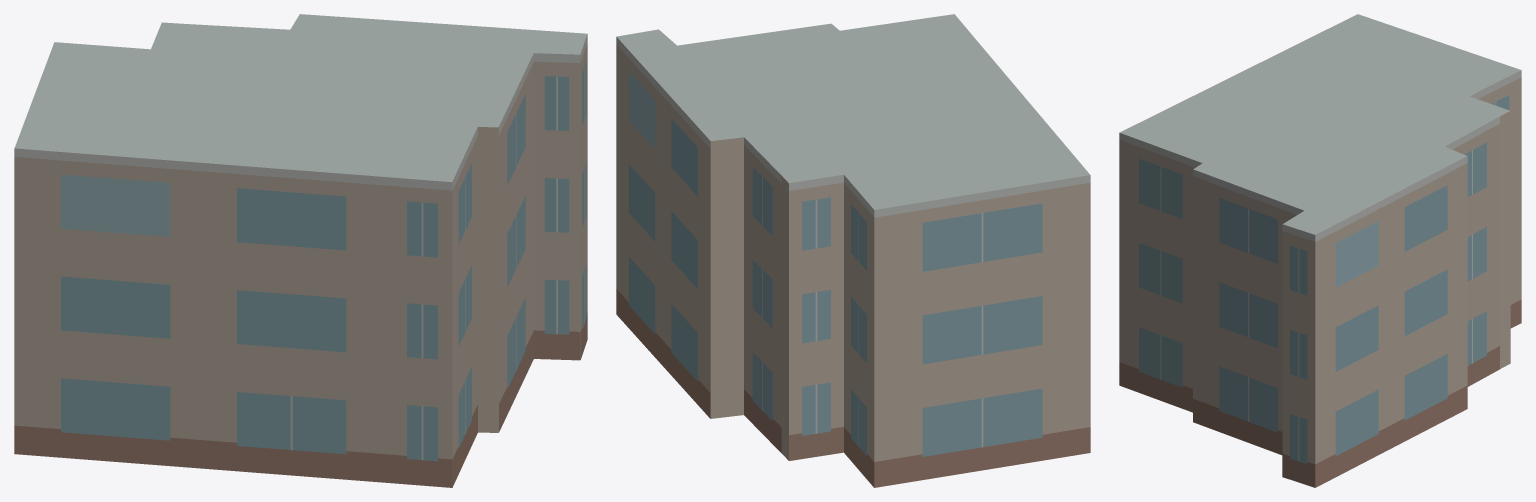
The model's file is survey-upis-32931127.glb.
3 renders of one model, left to right at view 1: azimuth 30°, elevation 25°; view 2: azimuth 150°, elevation 25°; view 3: azimuth 270°, elevation 25°, orthographic. The views are drawn at different scales.
Visible parts, largest first — view 1: survey-upis-32931127.tmp; view 2: survey-upis-32931127.tmp; view 3: survey-upis-32931127.tmp.
Boxes of the visible parts, <box> form: survey-upis-32931127.tmp: <box>14,14,587,487</box>; survey-upis-32931127.tmp: <box>616,14,1090,487</box>; survey-upis-32931127.tmp: <box>1119,14,1521,487</box>.
Bounding box in the file's own units: 16.5 × 8.8 × 12.7.
